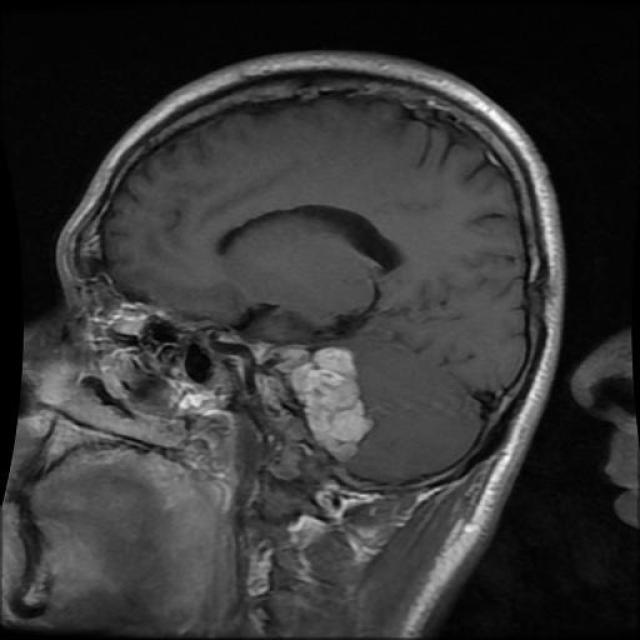meningioma: (291, 348, 371, 459)
